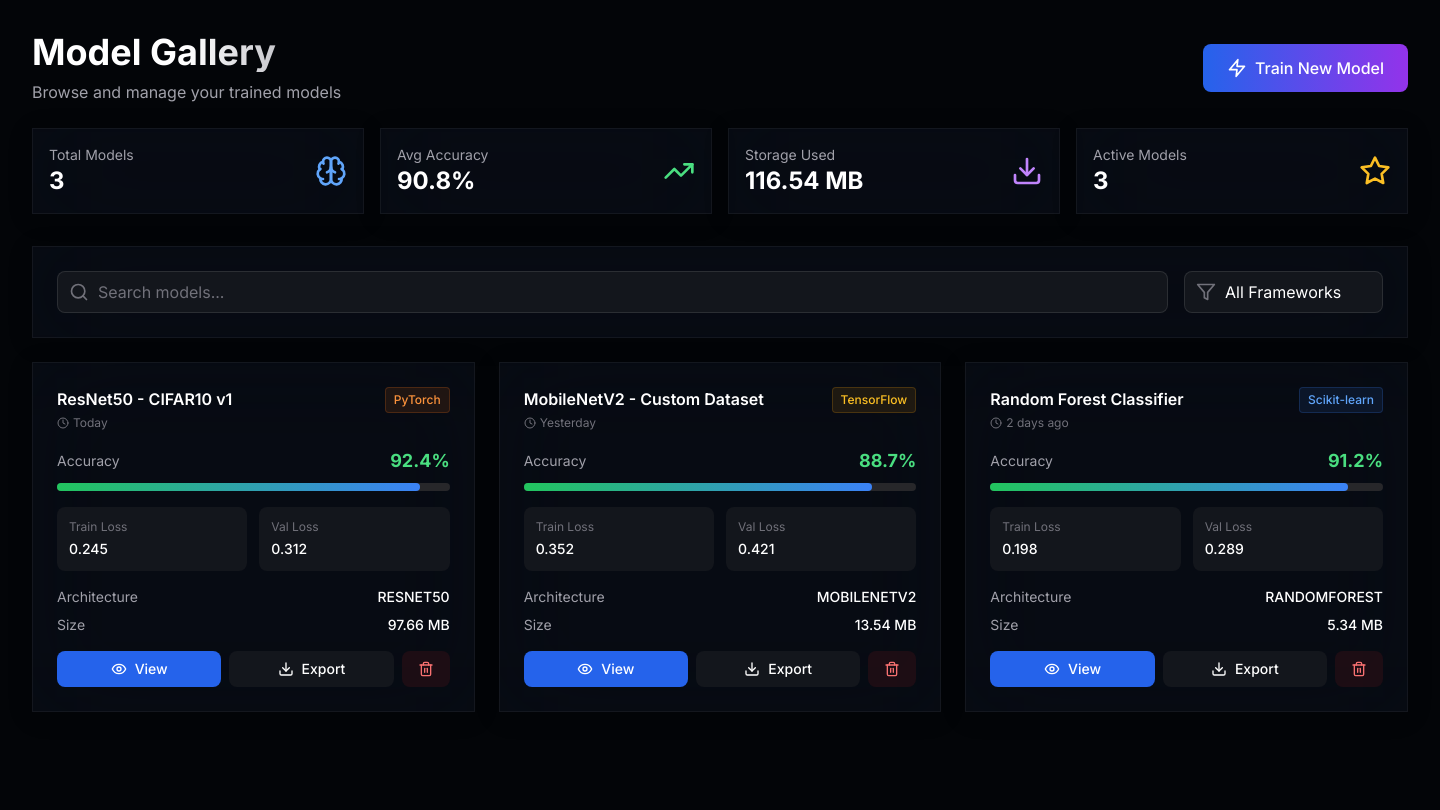
Test: Models Gallery Page › filters models by search query
This screenshot has width=1440, height=810.
Expected: the heading "ResNet50 - CIFAR10 v1" is shown, x1=57 y1=389 x2=232 y2=409
Step 1. Type "ResNet" into the field with placeholder "Search models..." → (612, 292), box x1=57 y1=271 x2=1168 y2=313
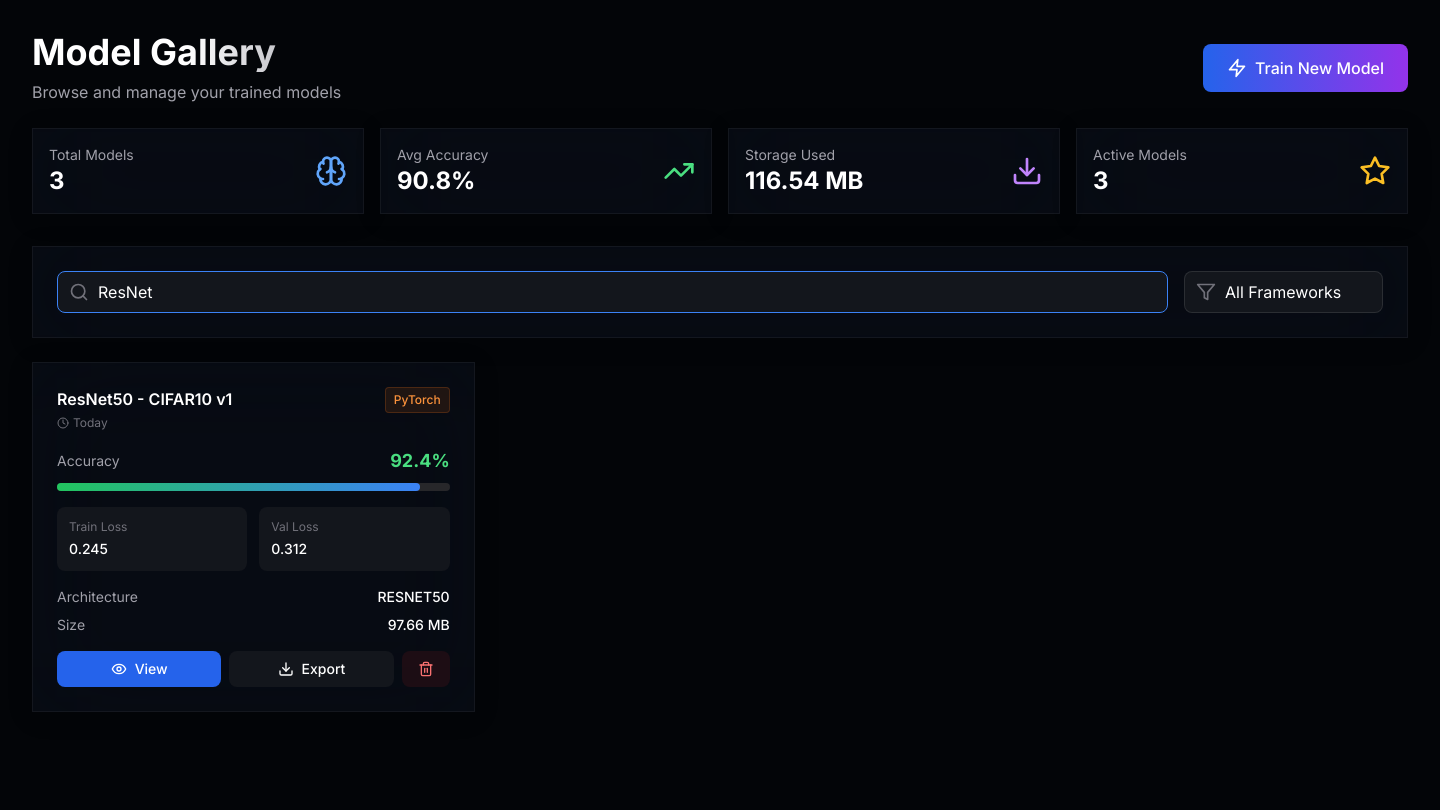
Expected: the heading "MobileNet" is gone
